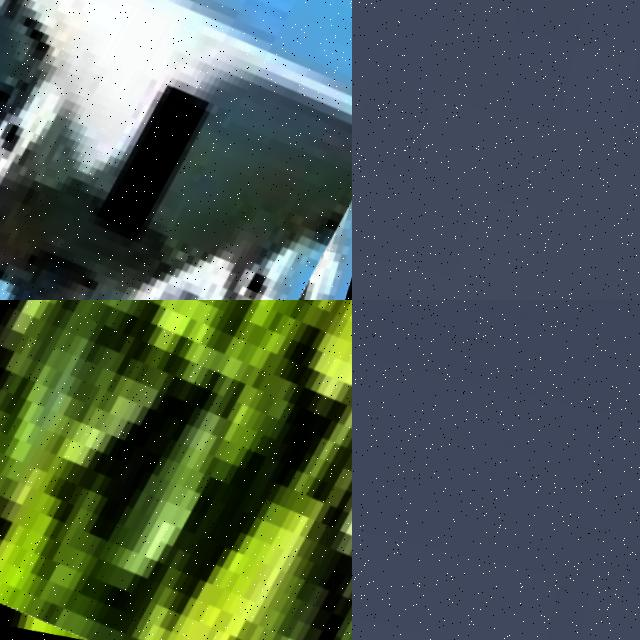drone: (0, 300, 352, 640), (0, 0, 352, 300)
